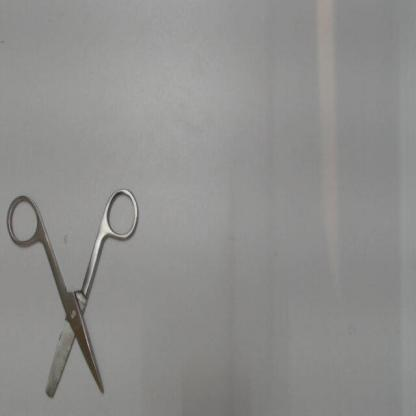Dressing Scissors: (0, 177, 148, 408)
